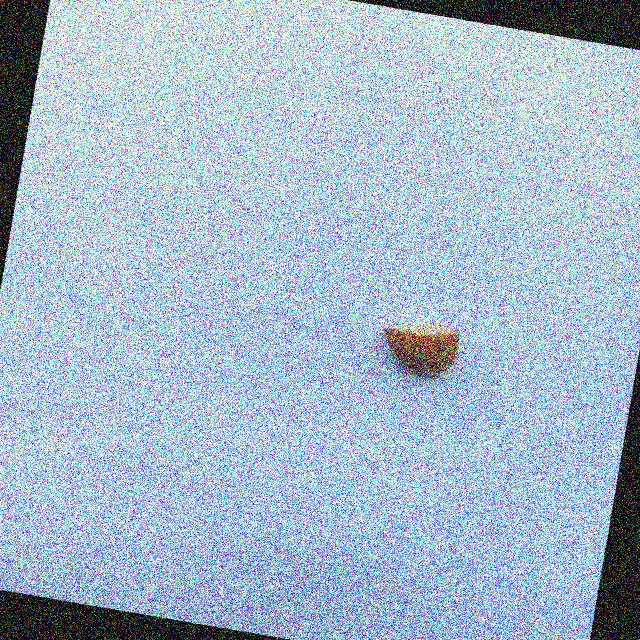grade4: (369, 309, 469, 386)
